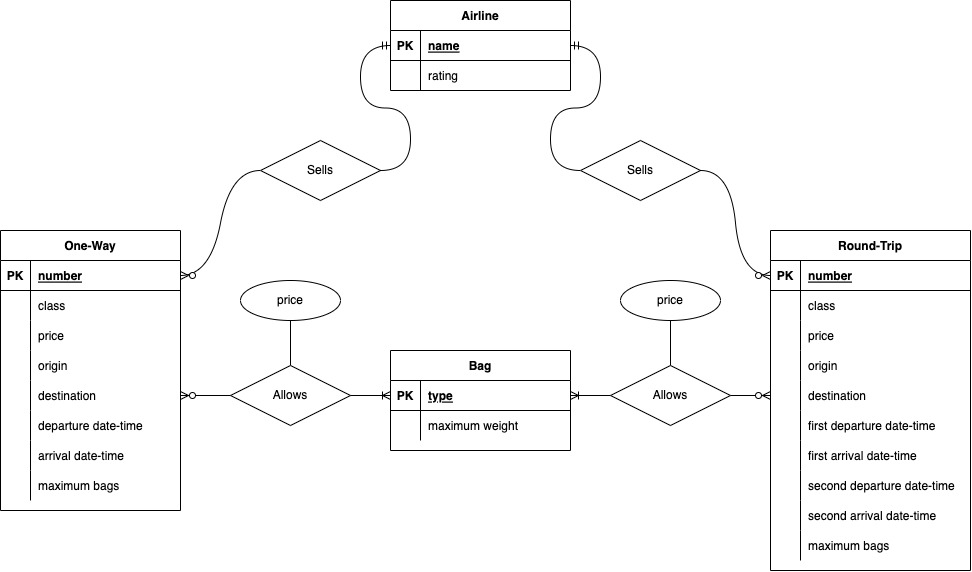entity: (769, 231, 972, 572), (1, 230, 182, 509), (389, 350, 573, 450), (390, 1, 573, 92)
many: (181, 387, 230, 404), (350, 387, 390, 405), (728, 389, 770, 403), (571, 387, 612, 401), (749, 266, 771, 286), (181, 265, 204, 283)
one: (364, 40, 389, 54), (572, 39, 594, 54)
rel: (262, 139, 381, 202), (231, 366, 352, 426), (583, 139, 700, 201), (611, 366, 729, 427)
rel_attr: (621, 279, 722, 321), (240, 280, 342, 321)
